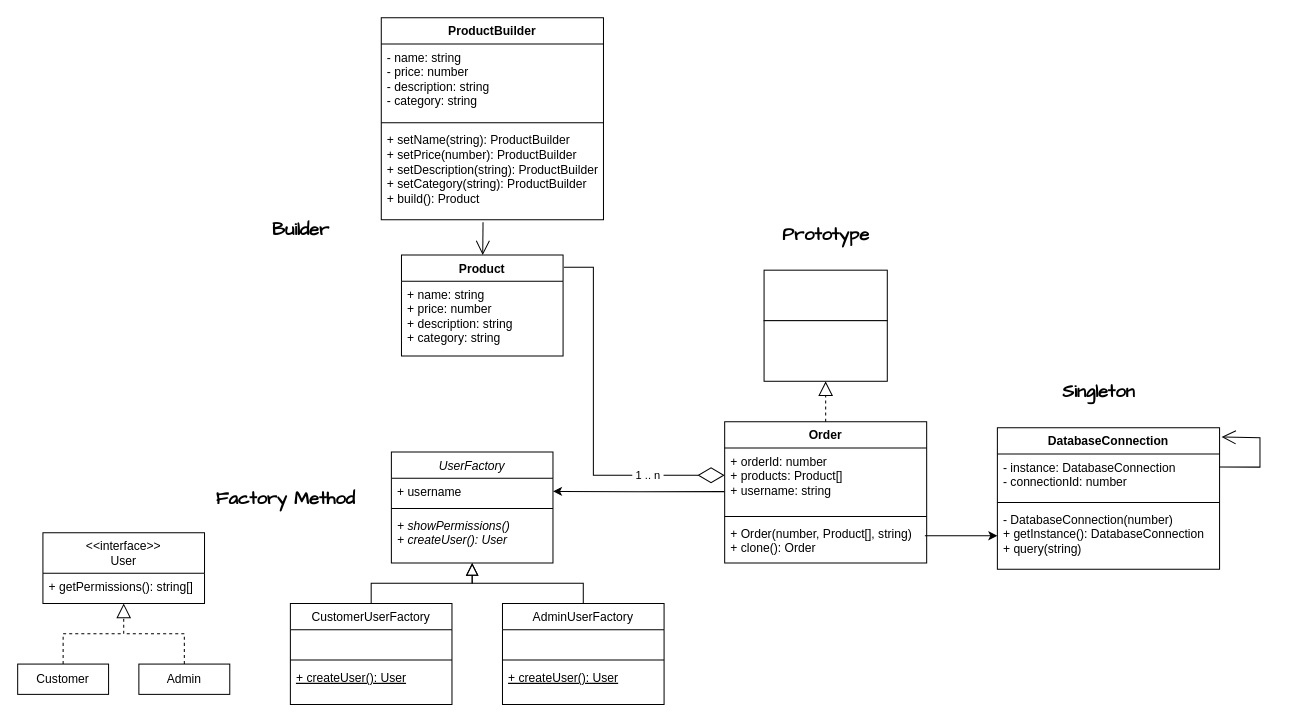
The diagram is 1292 pixels wide and 722 high, and some of its shapes have lost their labels. The shapes that lost their labels are listed below. From the top down, each one's centre as x and y in pixels, then its label:
At (x=825, y=295): "«interface» IPrototype".
At (x=825, y=350): "+ clone(): IPrototype".
